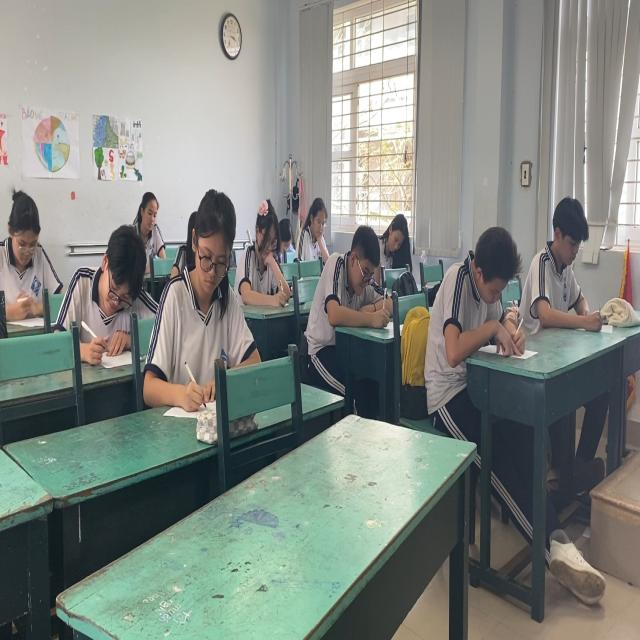not_cheating: (156, 192, 245, 402), (435, 212, 524, 358), (64, 229, 155, 354), (530, 188, 604, 323), (0, 174, 59, 322), (234, 192, 295, 319), (322, 222, 388, 329), (377, 194, 417, 264), (130, 192, 168, 260), (297, 197, 334, 253)
